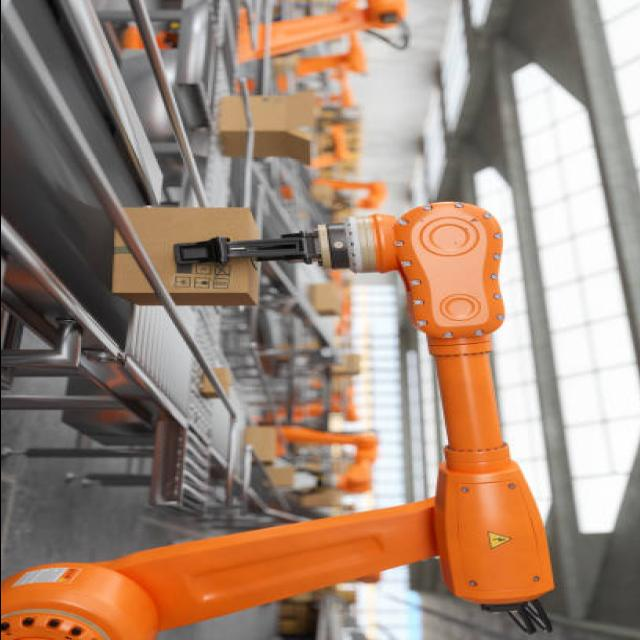Robotic-arm: (0, 200, 577, 640), (258, 420, 397, 496), (240, 0, 422, 56), (294, 43, 378, 77), (304, 129, 362, 167)
